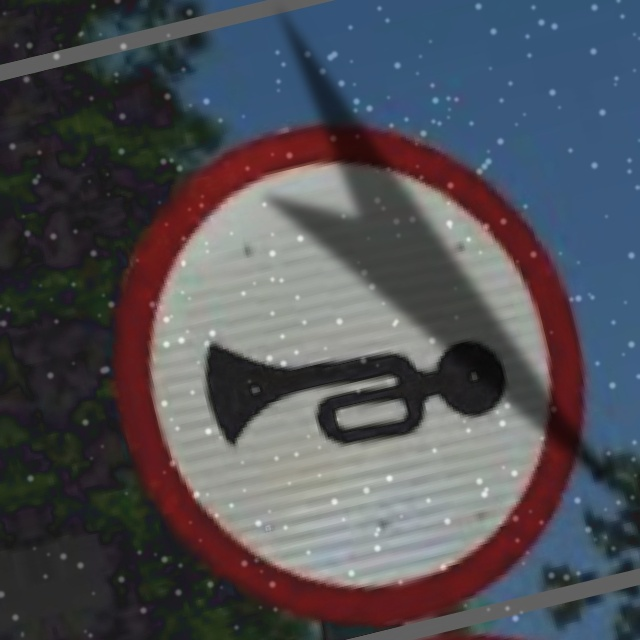Compulsory_Sound_Horn: (78, 88, 610, 635)
